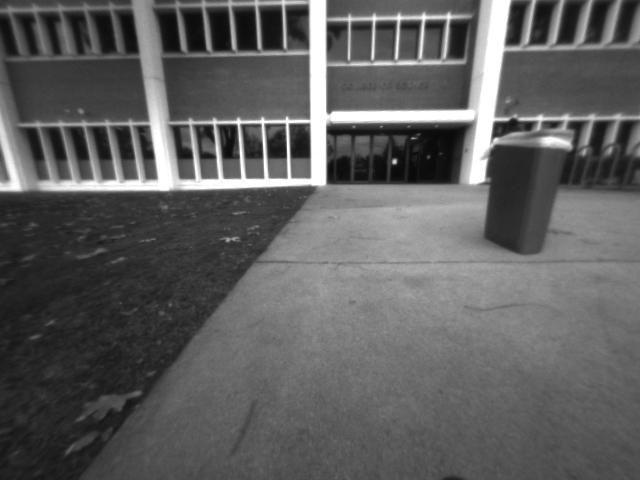trashcan: (474, 120, 584, 262)
